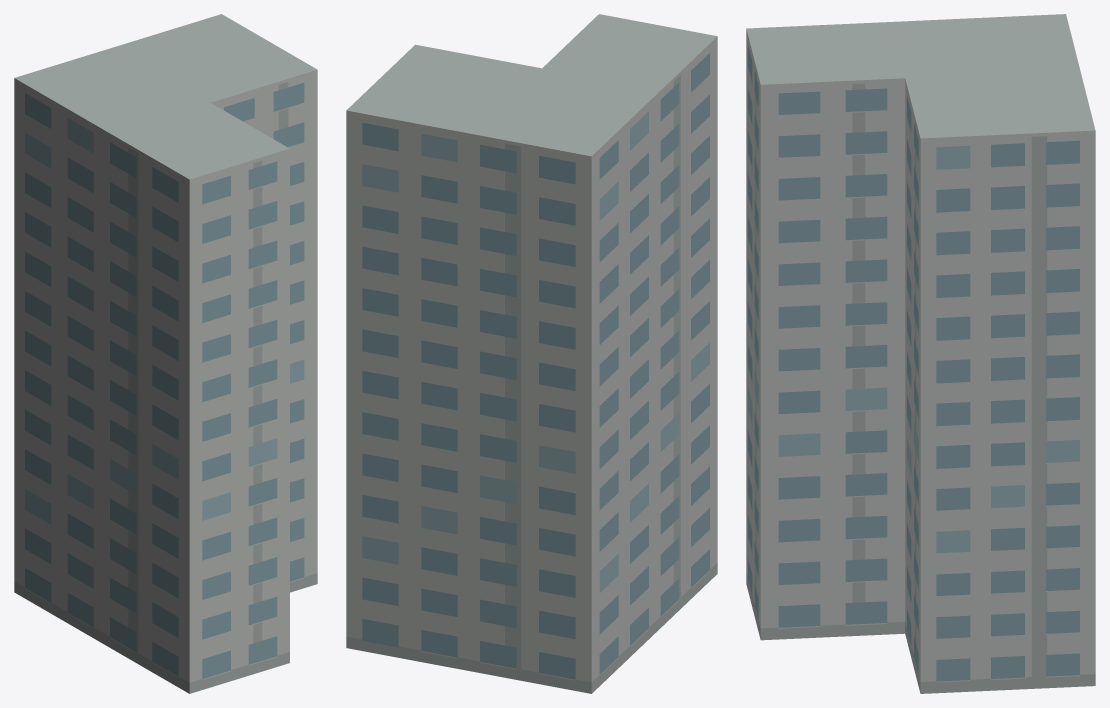
File: residential-718e6c74-4548-4507-beec-671b8ad29227.glb
3 renders of one model, left to right at view 1: azimuth 30°, elevation 25°; view 2: azimuth 150°, elevation 25°; view 3: azimuth 270°, elevation 25°, orthographic. The views are drawn at different scales.
Parts seen in each view (by area): view 1: residential-718e6c74-4548-4507-beec-671b8ad29227.tmp; view 2: residential-718e6c74-4548-4507-beec-671b8ad29227.tmp; view 3: residential-718e6c74-4548-4507-beec-671b8ad29227.tmp.
Boxes of the visible parts, x1,y1,x2,y2 form: residential-718e6c74-4548-4507-beec-671b8ad29227.tmp: [14, 14, 317, 693]; residential-718e6c74-4548-4507-beec-671b8ad29227.tmp: [346, 14, 717, 693]; residential-718e6c74-4548-4507-beec-671b8ad29227.tmp: [746, 14, 1095, 693].
Size of the model in its own units: 19.23 by 40 by 22.8.
